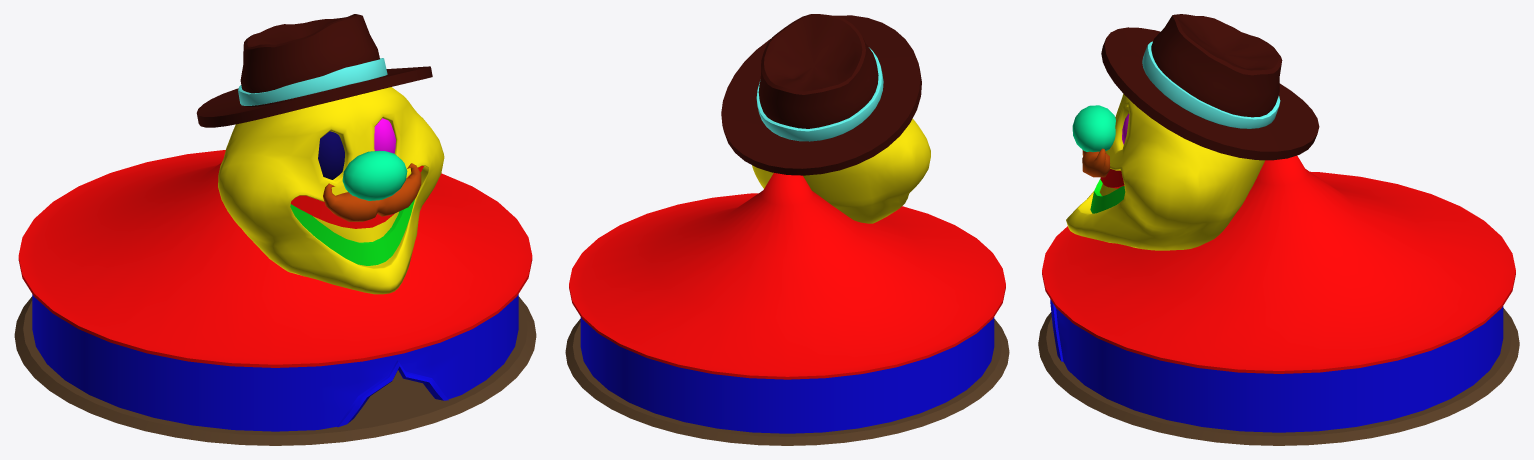
Rendered from Circus Tent Tris.fbx.
3 views of the same model, side by side, from view 1: azimuth 30°, elevation 25°; view 2: azimuth 150°, elevation 25°; view 3: azimuth 270°, elevation 25° (orthographic). The views are drawn at different scales.
Visible parts, largest first — view 1: Circus Tent0; view 2: Circus Tent0; view 3: Circus Tent0.
Boxes of the visible parts, left/top/right/bottom form: Circus Tent0: left=14, top=14, right=536, bottom=445; Circus Tent0: left=565, top=14, right=1009, bottom=445; Circus Tent0: left=1038, top=14, right=1519, bottom=445.
Size of the model in its own units: 315 by 235 by 315.
